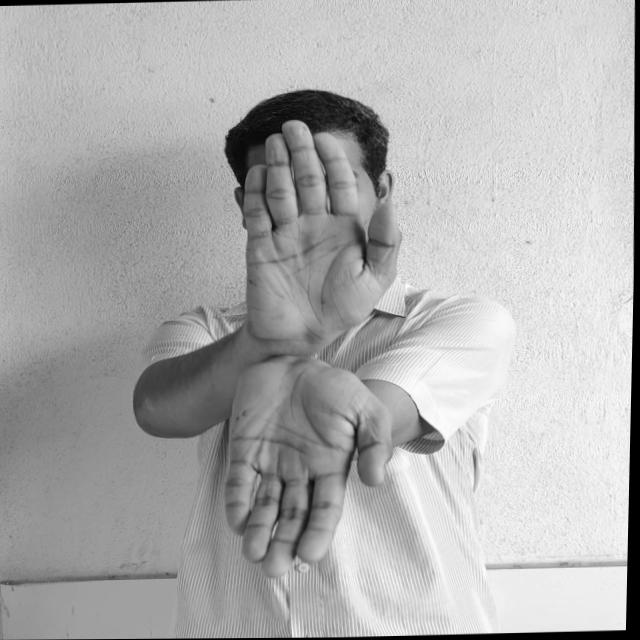Morning: (212, 115, 406, 579)
